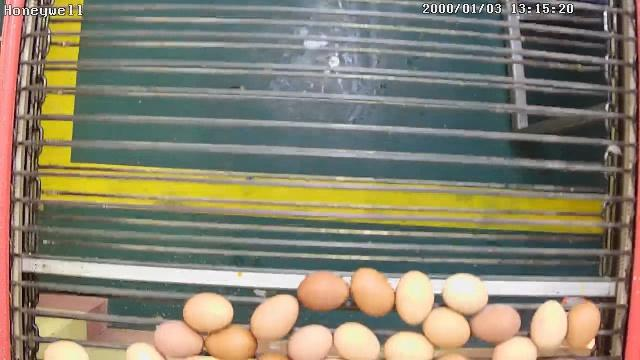egg: (249, 290, 299, 344), (182, 290, 234, 336), (348, 265, 394, 317), (296, 268, 349, 313), (394, 268, 435, 326), (441, 271, 489, 317), (469, 302, 521, 344), (422, 304, 471, 348), (153, 318, 204, 360), (529, 298, 567, 350), (332, 320, 382, 359), (566, 298, 602, 352), (377, 329, 438, 360), (286, 322, 332, 360), (487, 331, 542, 360), (39, 339, 89, 360), (126, 339, 166, 360)
